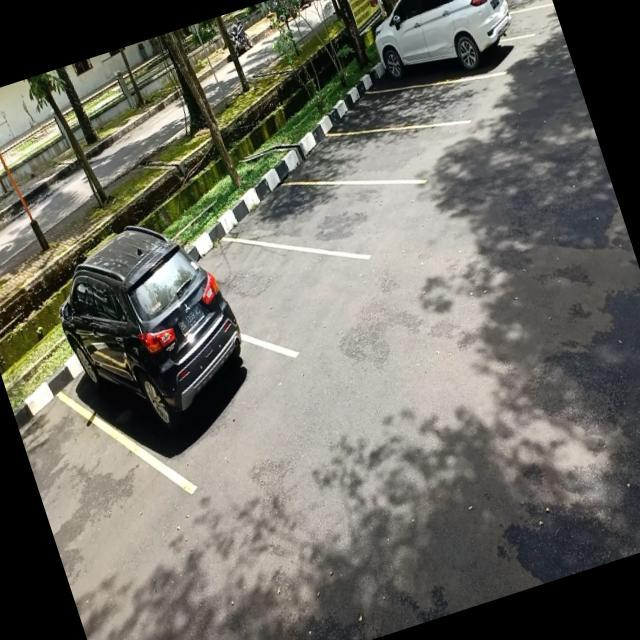empty: (214, 214, 349, 365), (259, 162, 376, 284), (326, 110, 431, 203), (361, 67, 465, 145)
occupied: (59, 266, 285, 505), (365, 0, 531, 103)
